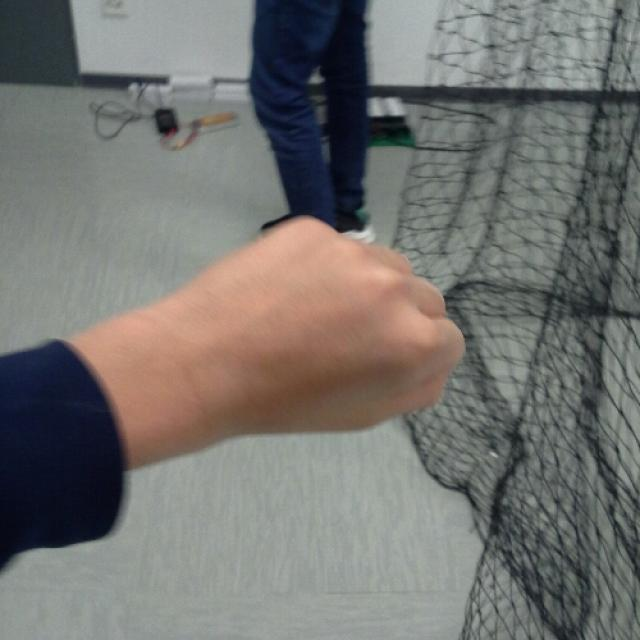fist: (240, 213, 466, 434)
